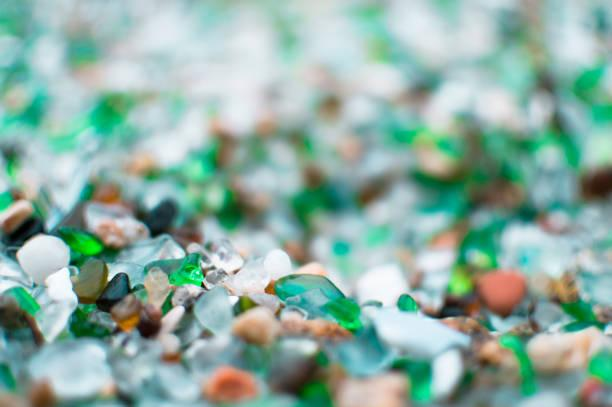glass: (368, 305, 474, 358), (274, 273, 362, 329), (329, 322, 397, 377), (193, 285, 235, 335), (70, 257, 107, 301), (56, 225, 106, 257), (0, 286, 42, 320)
